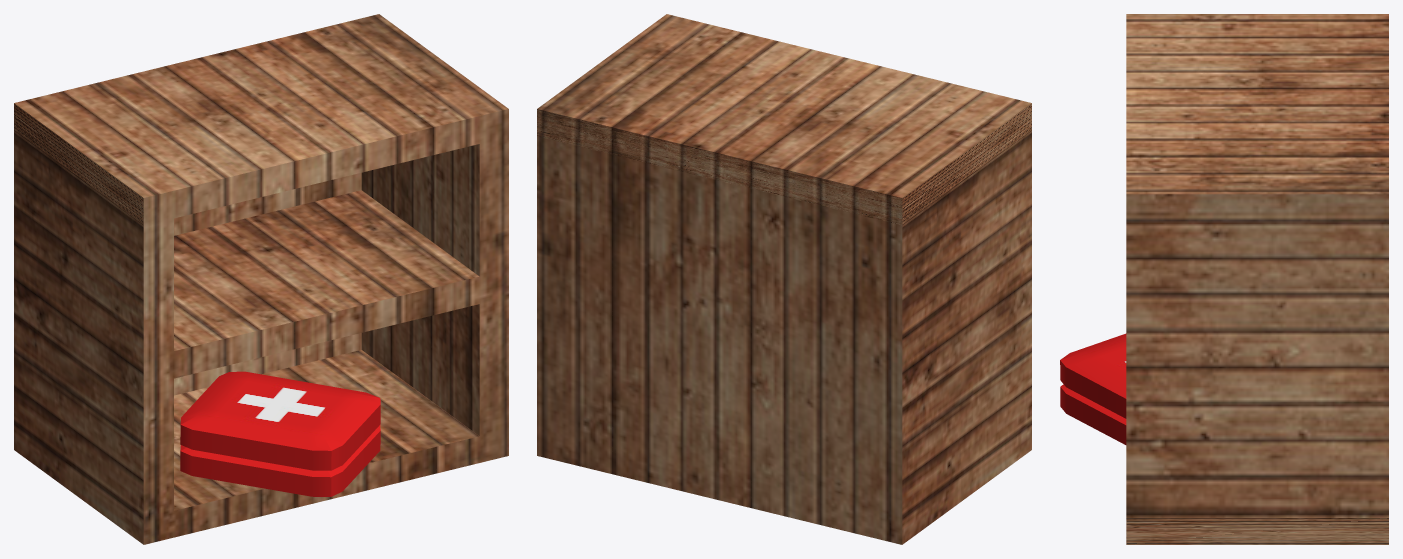
File: obj_firstaid.fbx
3 renders of one model, left to right at view 1: azimuth 30°, elevation 25°; view 2: azimuth 150°, elevation 25°; view 3: azimuth 270°, elevation 25°, orthographic.
Parts seen in each view (by area): view 1: pCube53; view 2: pCube53; view 3: pCube53.
Boxes of the visible parts, x1,y1,x2,y2 form: pCube53: (14, 14, 508, 544); pCube53: (537, 14, 1031, 544); pCube53: (1060, 14, 1388, 544).
Bounding box in the file's own units: 3.95 × 3.59 × 3.05.
1 material, 1 textured.
